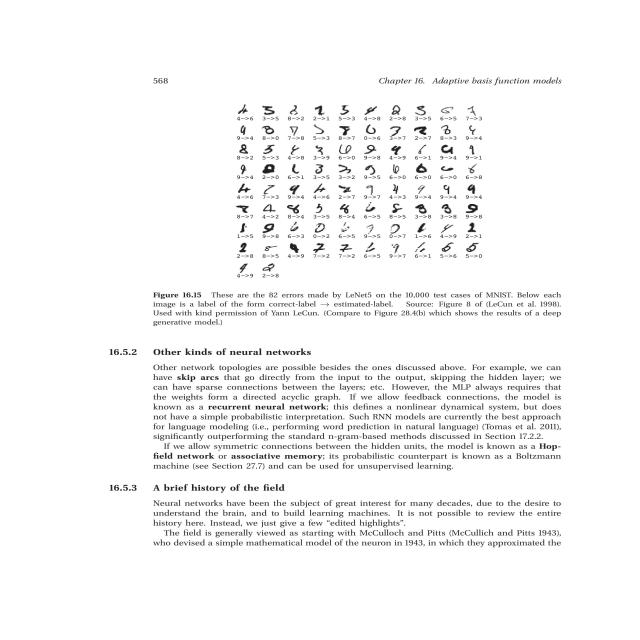diagram: (114, 97, 599, 329)
